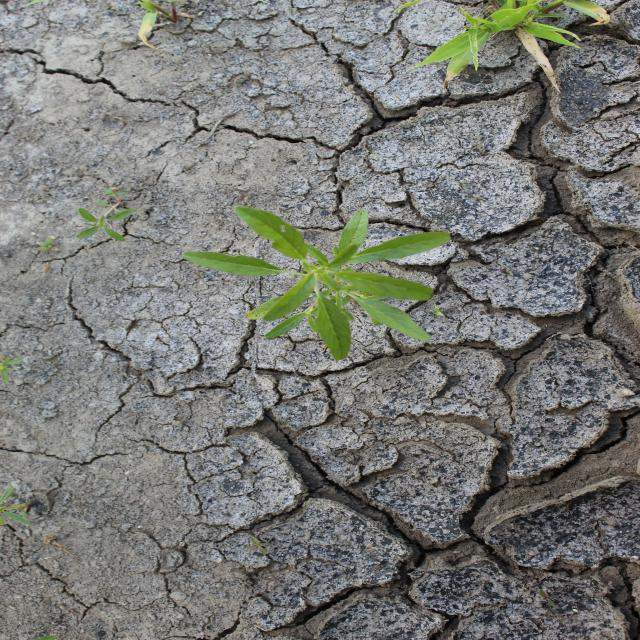Waterhemp: (178, 203, 456, 363), (73, 186, 140, 242)
